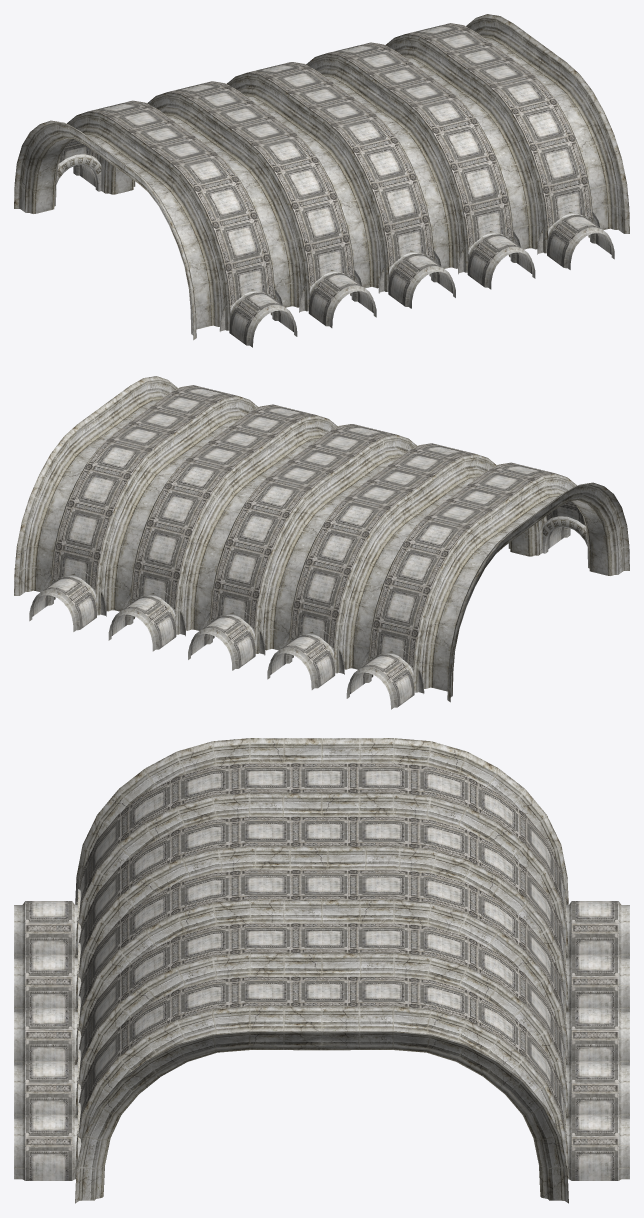
File: KnightCastle_DockRoom_Ceiling.FBX
3 renders of one model, top to bottom at view 1: azimuth 30°, elevation 25°; view 2: azimuth 150°, elevation 25°; view 3: azimuth 270°, elevation 25°, orthographic. The views are drawn at different scales.
Parts seen in each view (by area): view 1: SM_KnightCastle_DockRoom_Ceiling; view 2: SM_KnightCastle_DockRoom_Ceiling; view 3: SM_KnightCastle_DockRoom_Ceiling.
Boxes of the visible parts, x1=… form: SM_KnightCastle_DockRoom_Ceiling: x1=14, y1=14, x2=629, y2=347; SM_KnightCastle_DockRoom_Ceiling: x1=14, y1=376, x2=629, y2=709; SM_KnightCastle_DockRoom_Ceiling: x1=14, y1=738, x2=629, y2=1203.
Size of what is drawn, in the model's own units: 2708 by 2404 by 746.
